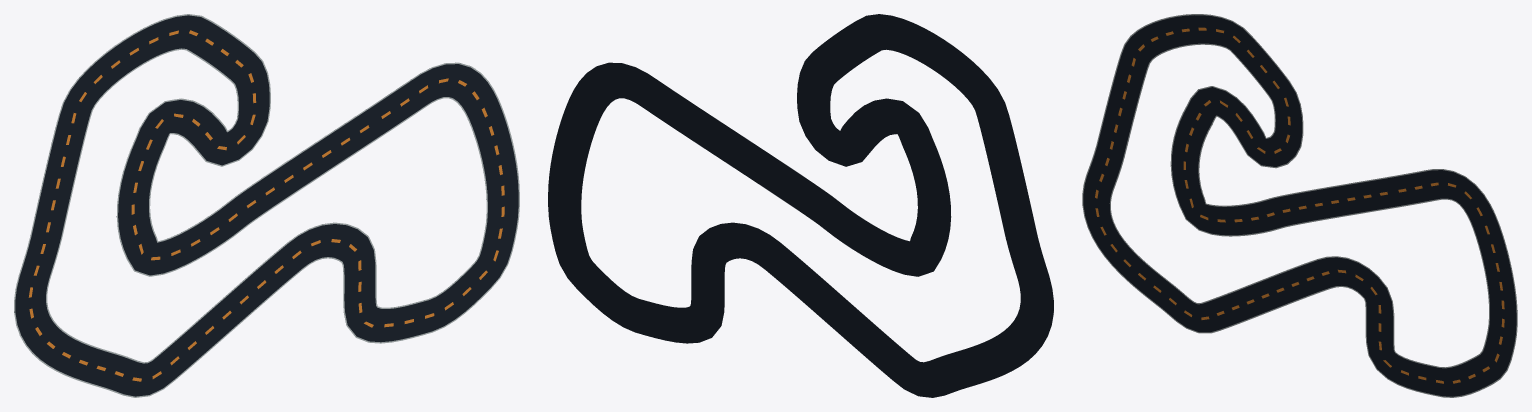
Rendered from track.obj.
3 views of the same model, side by side, from view 1: azimuth 30°, elevation 25°; view 2: azimuth 150°, elevation 25°; view 3: azimuth 330°, elevation 25° (orthographic). The views are drawn at different scales.
Size of the model in its own units: 16.21 by 11.64 by 0.002.
